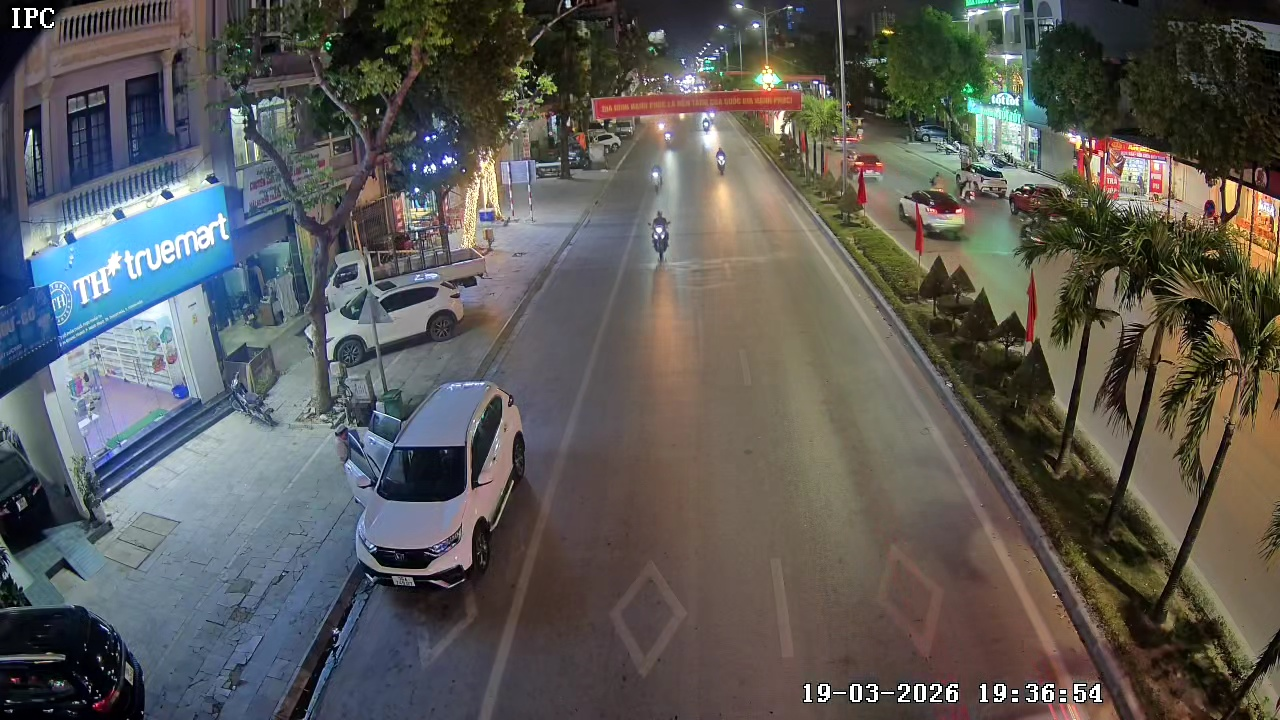car: (350, 378, 535, 592), (0, 603, 150, 719), (353, 266, 467, 359), (897, 184, 966, 238)
motorbike: (648, 210, 672, 262), (646, 149, 665, 190), (712, 138, 729, 174)
